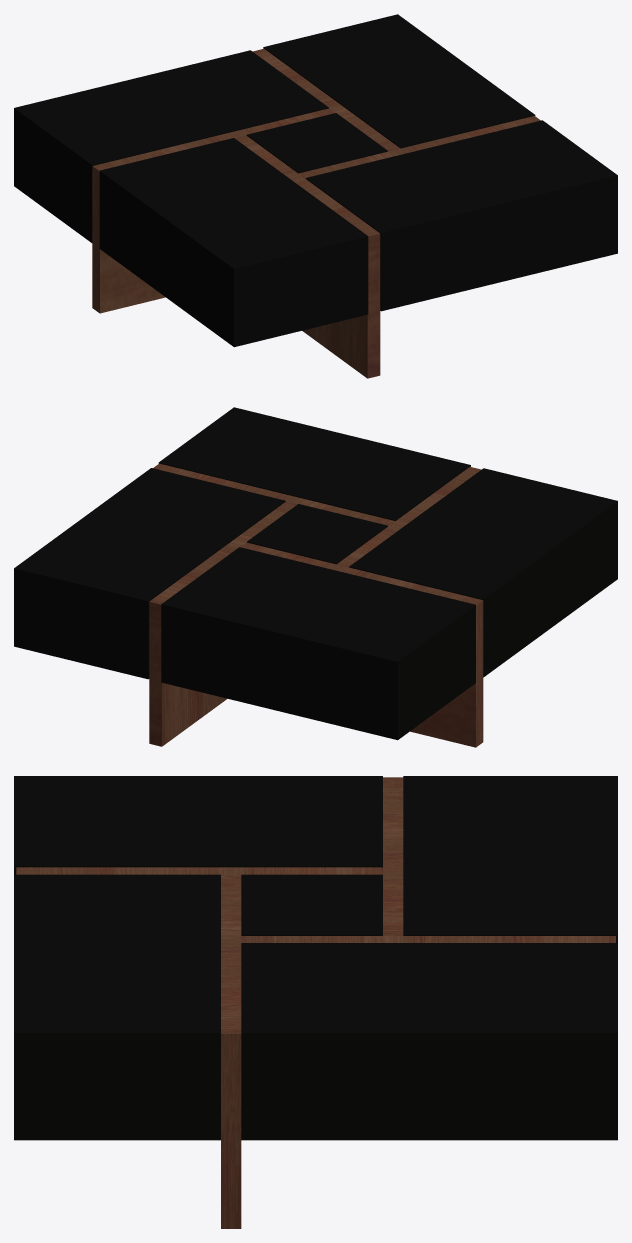
Rendered from coffetable.fbx.
The picture shows the model from 3 angles, top to bottom: view 1: azimuth 30°, elevation 25°; view 2: azimuth 150°, elevation 25°; view 3: azimuth 270°, elevation 25°; orthographic projection. The views are drawn at different scales.
Visible parts, largest first — view 1: Coffee Table.001; view 2: Coffee Table.001; view 3: Coffee Table.001.
Part boxes in pixels (x1,y1,x2,y2): Coffee Table.001: (14, 14, 617, 378); Coffee Table.001: (14, 407, 617, 747); Coffee Table.001: (14, 776, 617, 1228).
Bounding box in the file's own units: 158 × 56.33 × 157.
2 materials, 1 textured.
